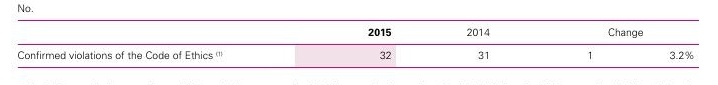table: (0, 0, 718, 85)
